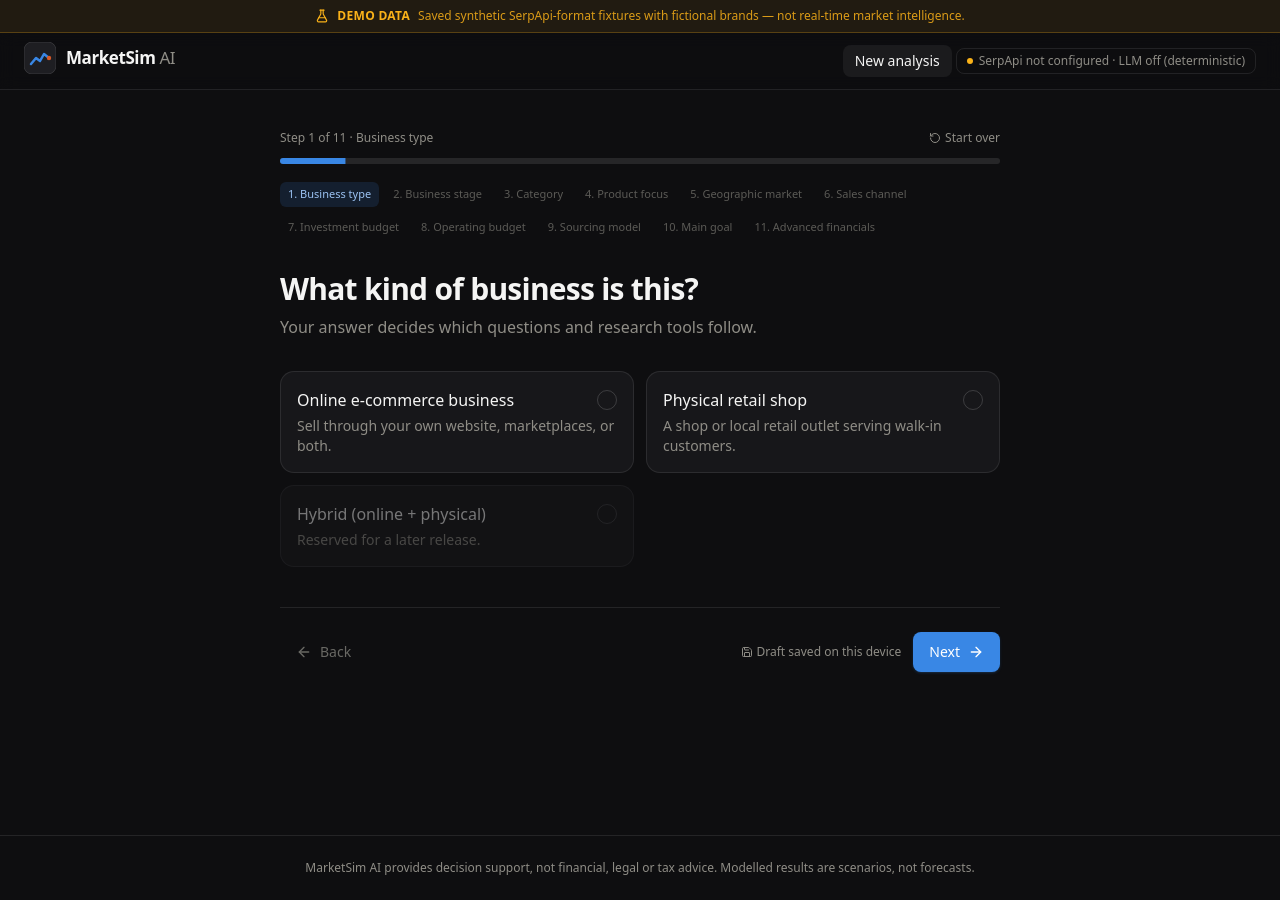
Test case: onboarding wizard › blocks Next with a validation error until a business type is chosen
Expected: the heading "What kind of business is this?" is shown, [280,268,698,309]
Click the button "Next": (957, 652) [913,632,1000,672]
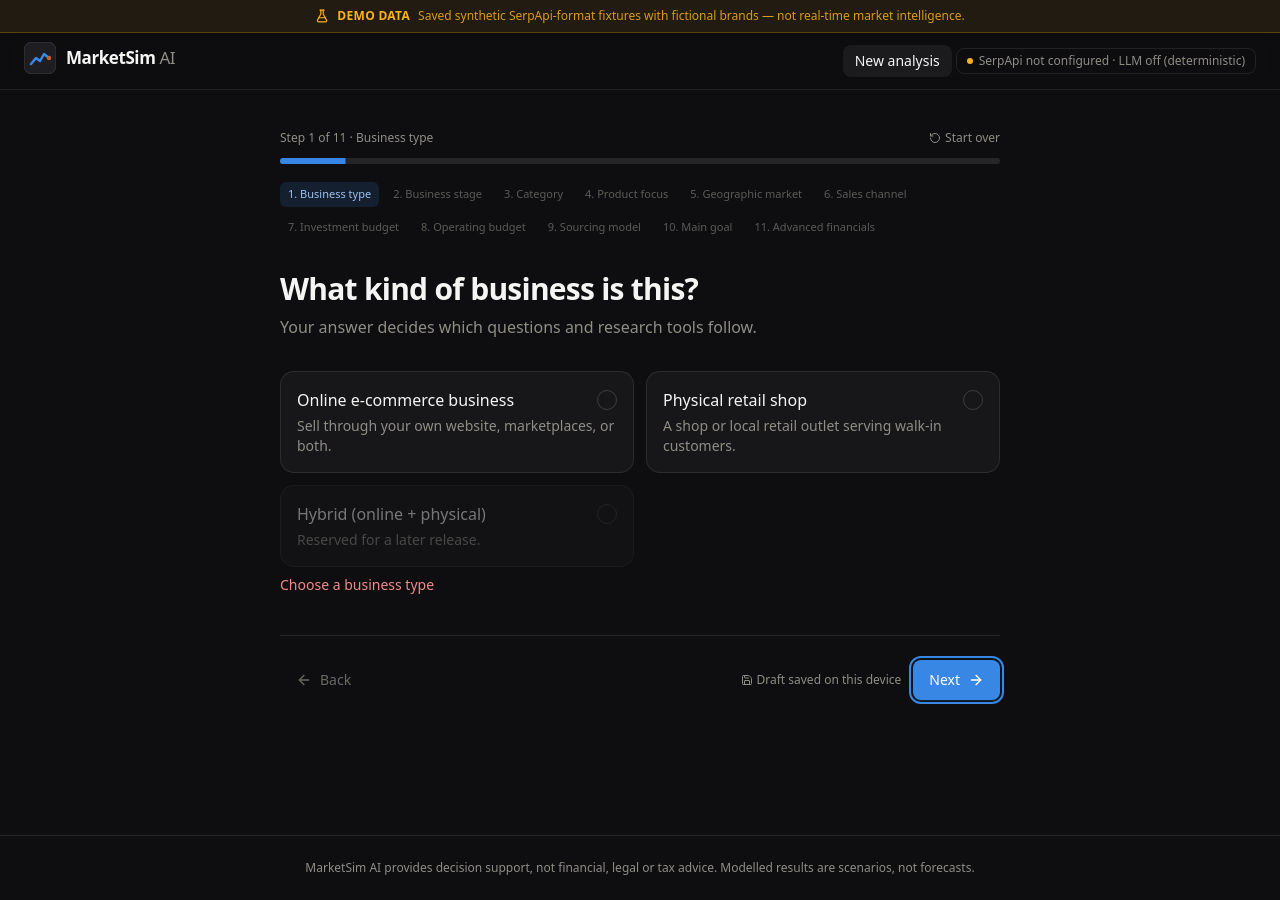
Expected: the radio button labelled "Hybrid (online + physical) Reserved for a later release." is disabled, [280,485,634,567]
Result: the message reads "Choose a business type" at [280,575,434,594]
Click the radio button labelled "Online e-commerce": (457, 422) [280,371,634,473]
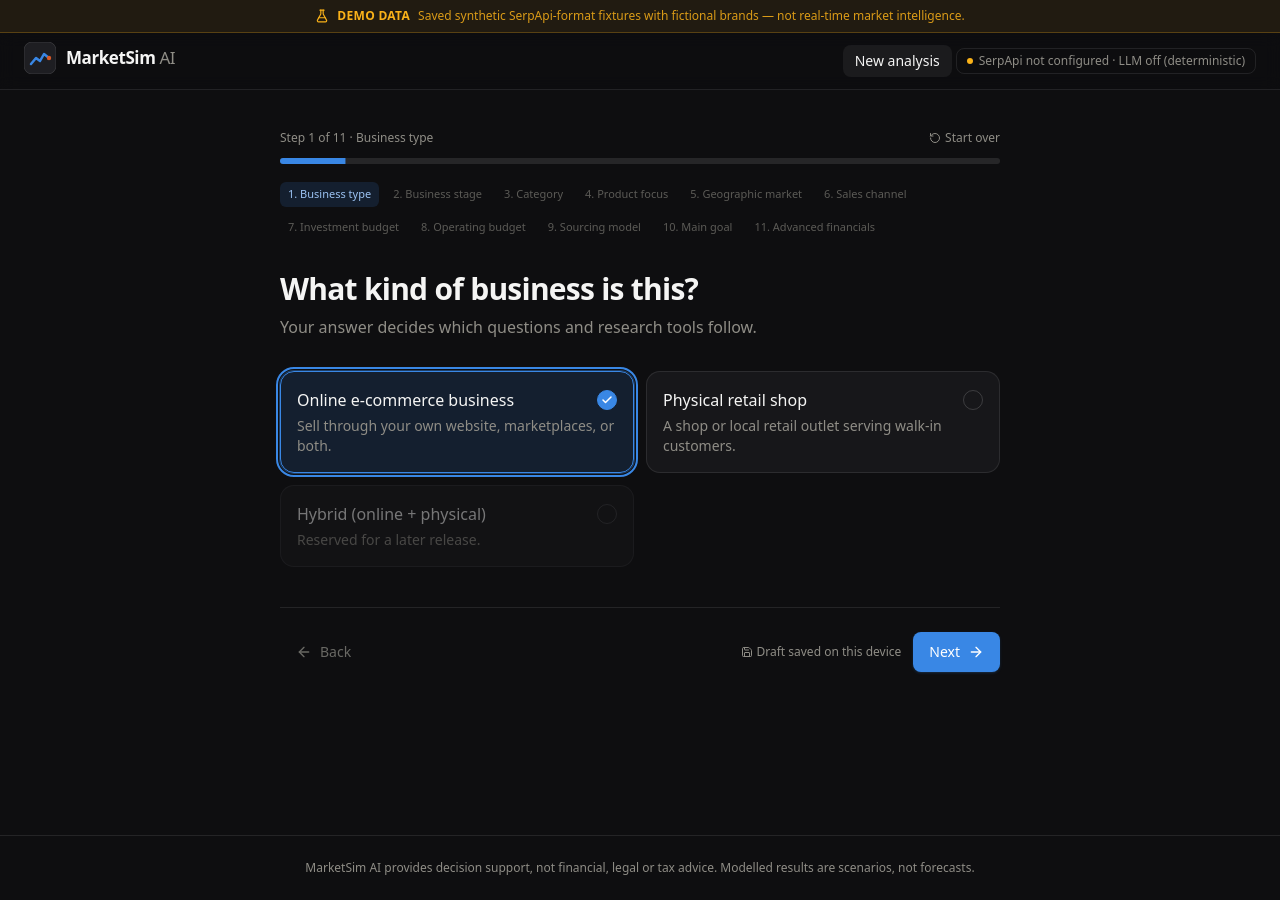
Click the button "Next": (957, 652) [913,632,1000,672]
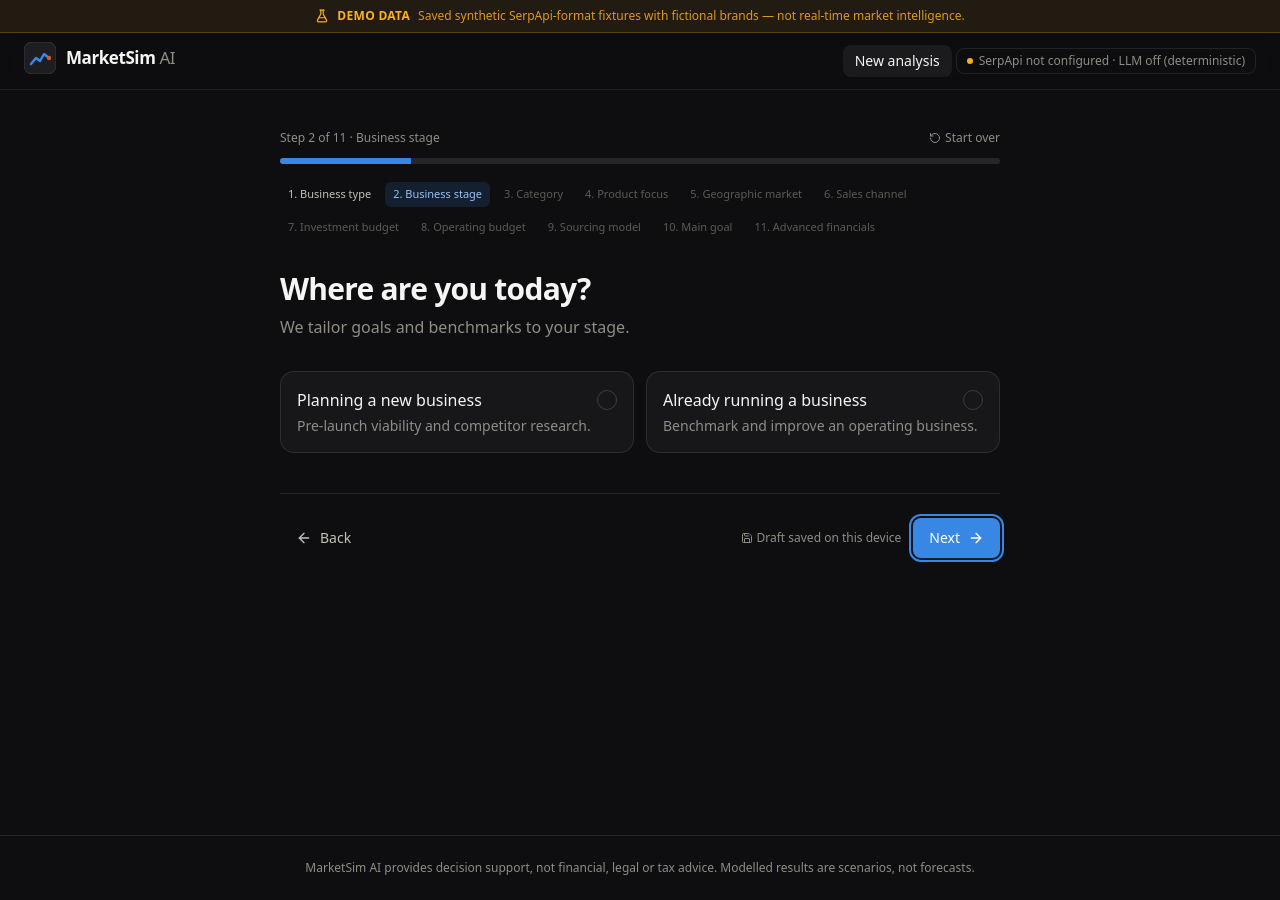
Result: the heading "Where are you today?" is shown at [280,268,590,309]
